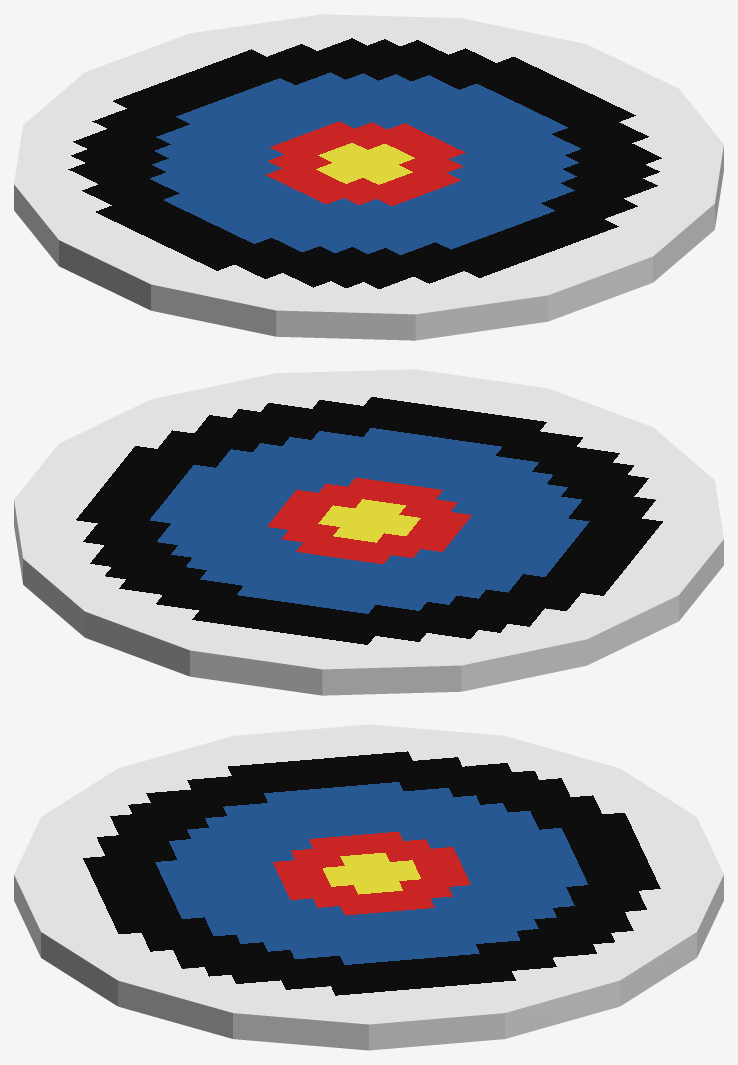
File: AimTarget.fbx
3 views of the same model, one above another, from view 1: azimuth 30°, elevation 25°; view 2: azimuth 150°, elevation 25°; view 3: azimuth 270°, elevation 25° (orthographic).
Parts seen in each view (by area): view 1: Cylinder; view 2: Cylinder; view 3: Cylinder.
Part boxes in pixels (left/top/right/bottom): Cylinder: left=14, top=14, right=723, bottom=340; Cylinder: left=14, top=369, right=723, bottom=695; Cylinder: left=14, top=724, right=723, bottom=1050.
Bounding box in the file's own units: 200 × 8.08 × 200.
2 materials, 1 textured.
